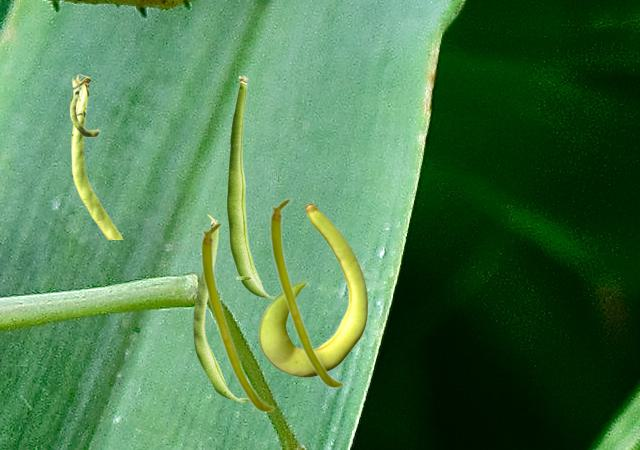french_bean: (258, 203, 367, 376), (269, 197, 343, 388), (200, 221, 274, 412), (226, 75, 274, 298), (193, 214, 248, 401), (69, 74, 122, 238)
